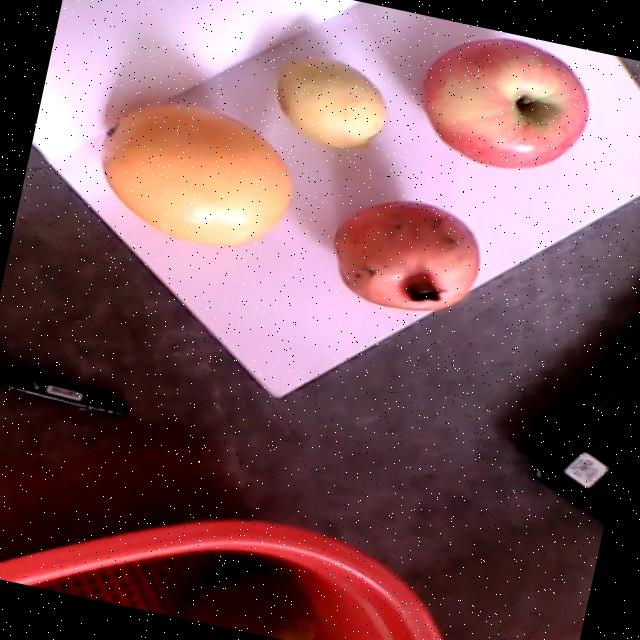apple: (419, 37, 587, 169)
lemon: (275, 58, 386, 148)
orange: (98, 102, 294, 246)
pomegranate: (331, 200, 479, 311)
